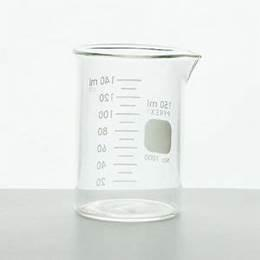Beaker: (68, 27, 205, 237)
